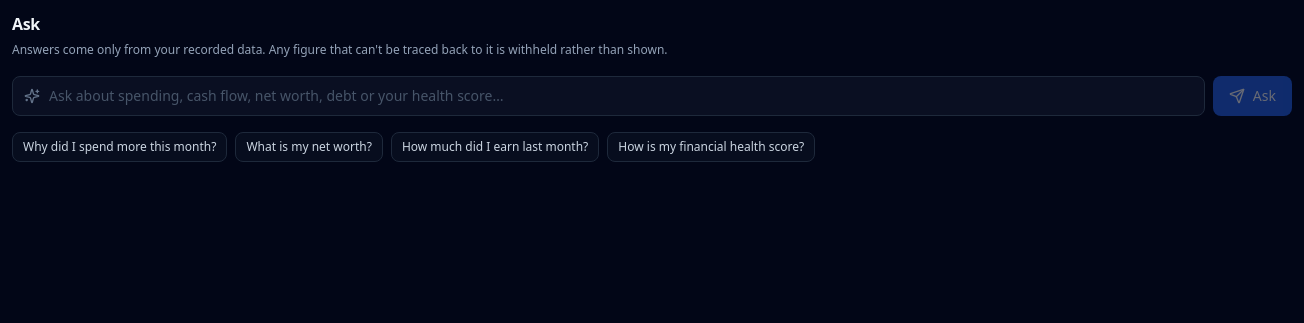
Test case: AskSection › renders verified answer with UsedMetric object usedMetrics correctly
Replace the text in the field with placeholder "Ask about spending" with "How much did I earn last month?" at (608, 96), box [12,76,1205,116]
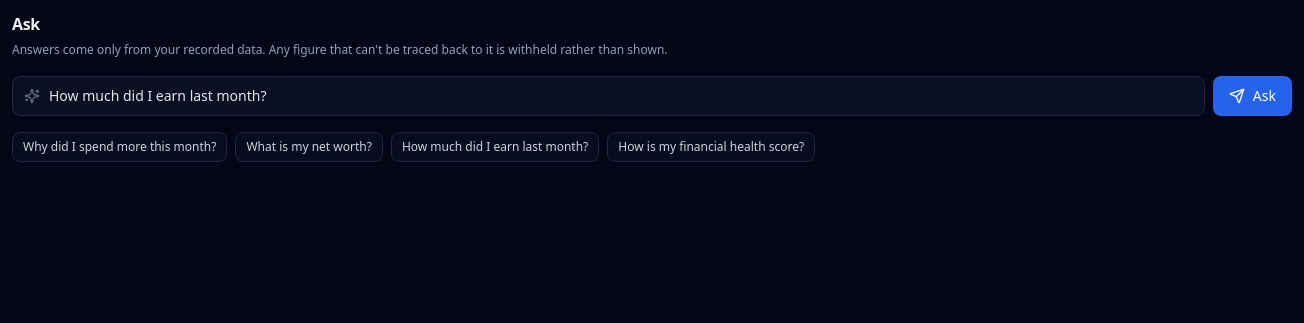
Submit the form with placeholder "Ask about spending", box [12,76,1292,116]
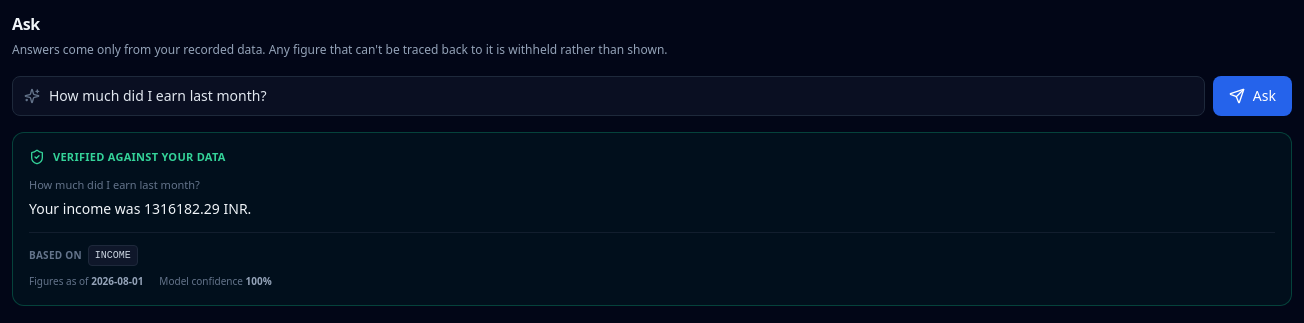
Expected: the text "Your income was 1316182.29 INR." is shown, [29,198,251,218]
Expected: the text "INCOME" is shown, [88,245,138,266]
